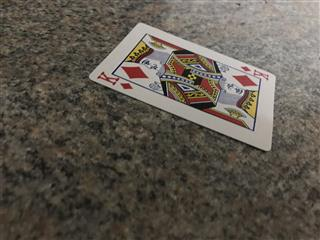KingOfDiamonds: (87, 21, 276, 151)
